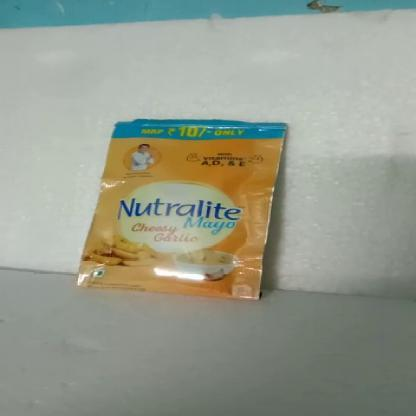Nutralite CHEESY GARLIC MAYO 30g: (112, 122, 282, 296)
